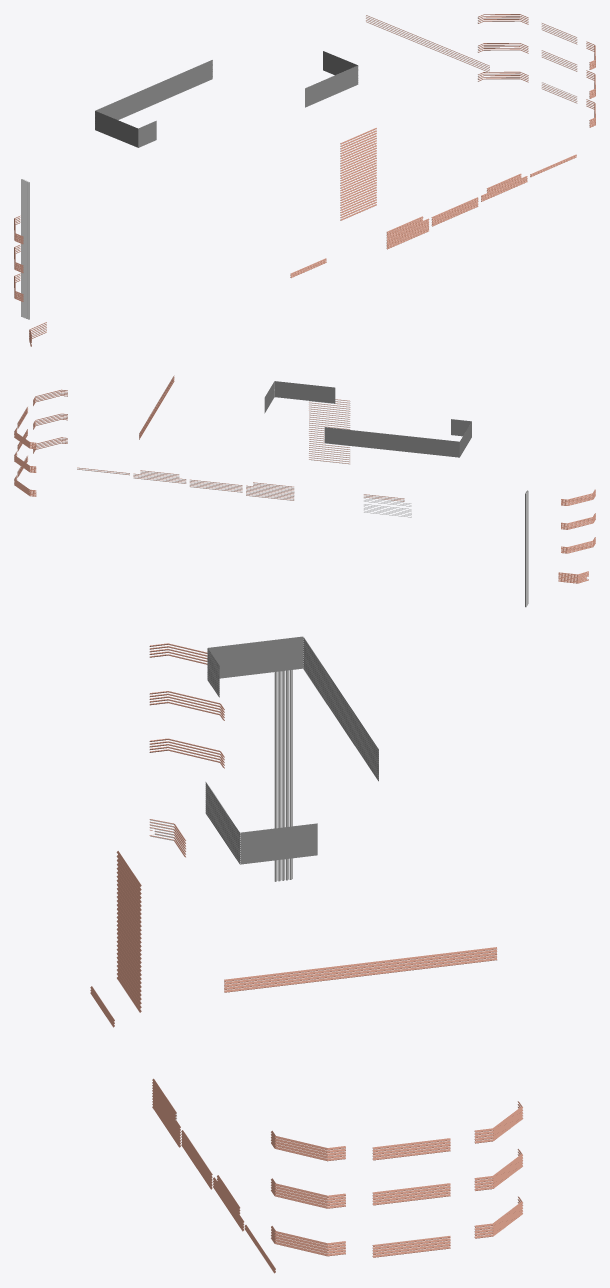
The model's file is f1aec20a-6f80-49d7-9c08-48c99c6145b4.glb.
The picture shows the model from 3 angles, top to bottom: view 1: azimuth 30°, elevation 25°; view 2: azimuth 150°, elevation 25°; view 3: azimuth 270°, elevation 25°; orthographic projection. The views are drawn at different scales.
Visible parts, largest first — view 1: 10562, 10565, 10563, 10566; view 2: 10562, 10565; view 3: 10563, 10562, 10566, 10565, 9615, 9611, 9623, 9619, 9607.
Boxes of the visible parts, x1,y1,x2,y2 form: 10562: (95,60,212,119); 10565: (305,65,358,107); 10563: (95,111,138,147); 10566: (323,51,357,75); 10562: (324,427,459,457); 10565: (274,381,335,403); 10563: (208,636,302,678); 10562: (303,637,378,781); 10566: (240,823,317,864); 10565: (205,782,240,863); 9615: (224,952,497,987); 9611: (224,955,496,989); 9623: (224,947,496,981); 9619: (224,949,497,984); 9607: (224,958,497,992).
Size of the model in its own units: 80.32 by 22.52 by 29.29.
